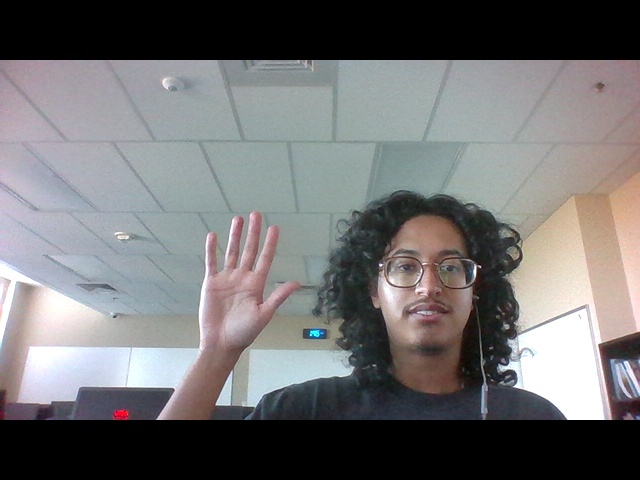hello: (191, 207, 309, 354)
